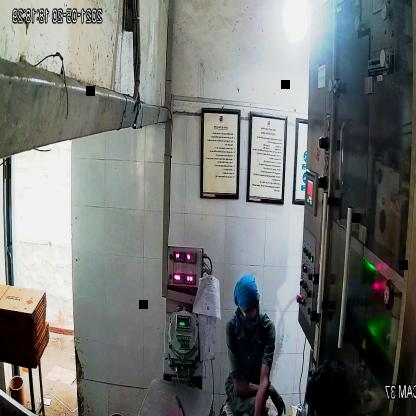goggles: (238, 295, 264, 322)
